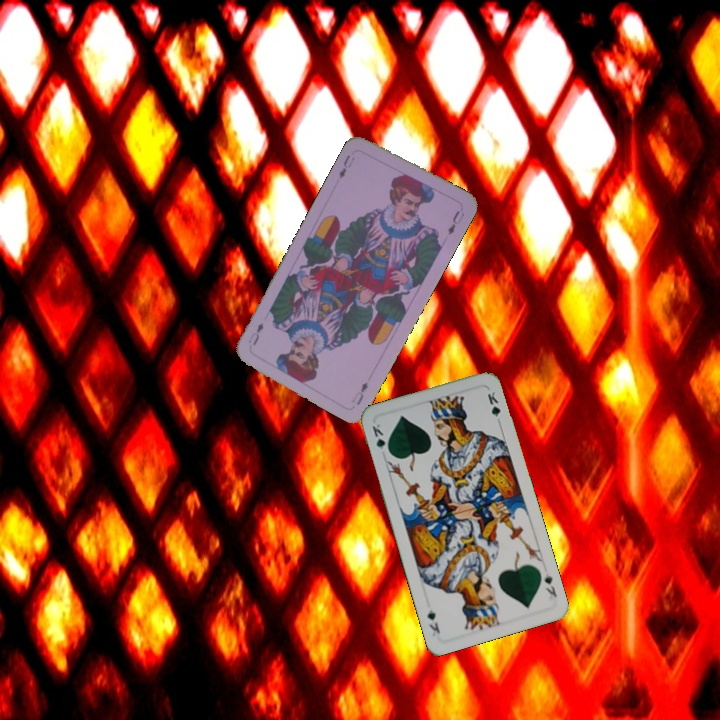EU: (348, 378, 371, 408), (335, 151, 357, 181)
GK: (368, 419, 392, 457), (540, 569, 560, 600)
